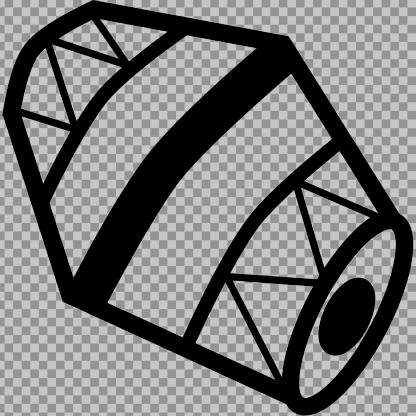Mridangam: (4, 1, 416, 416)
